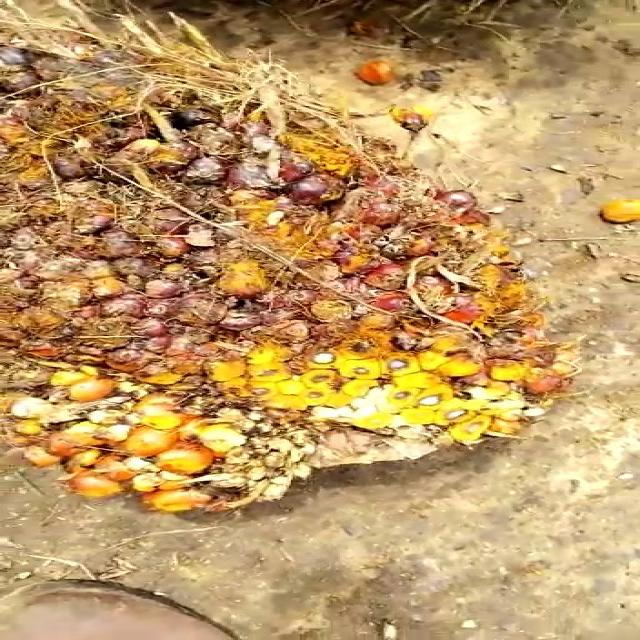palm oil: (0, 14, 563, 528)
